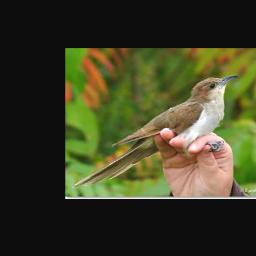Cuckoo: (71, 72, 239, 187)
